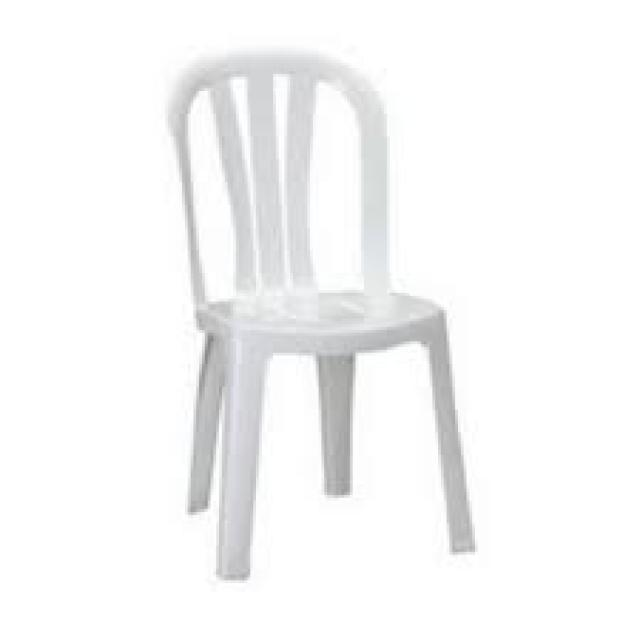chair: (163, 40, 480, 583)
